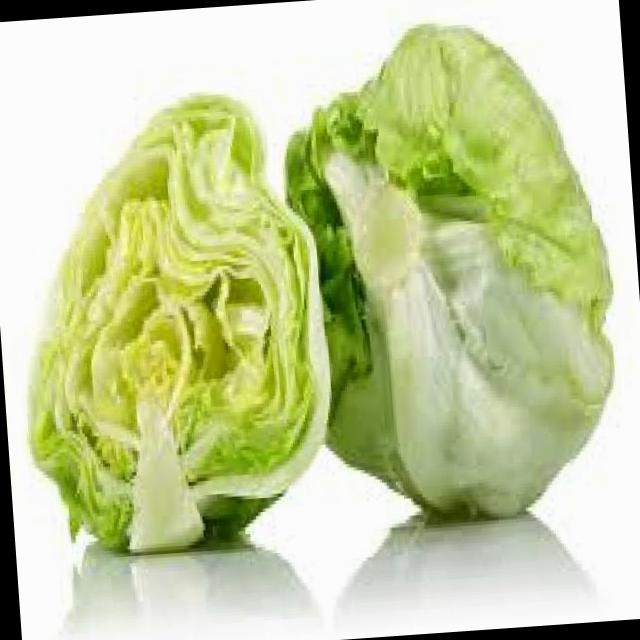Lettuce-Ready-to-Harvest: (30, 94, 328, 550)
